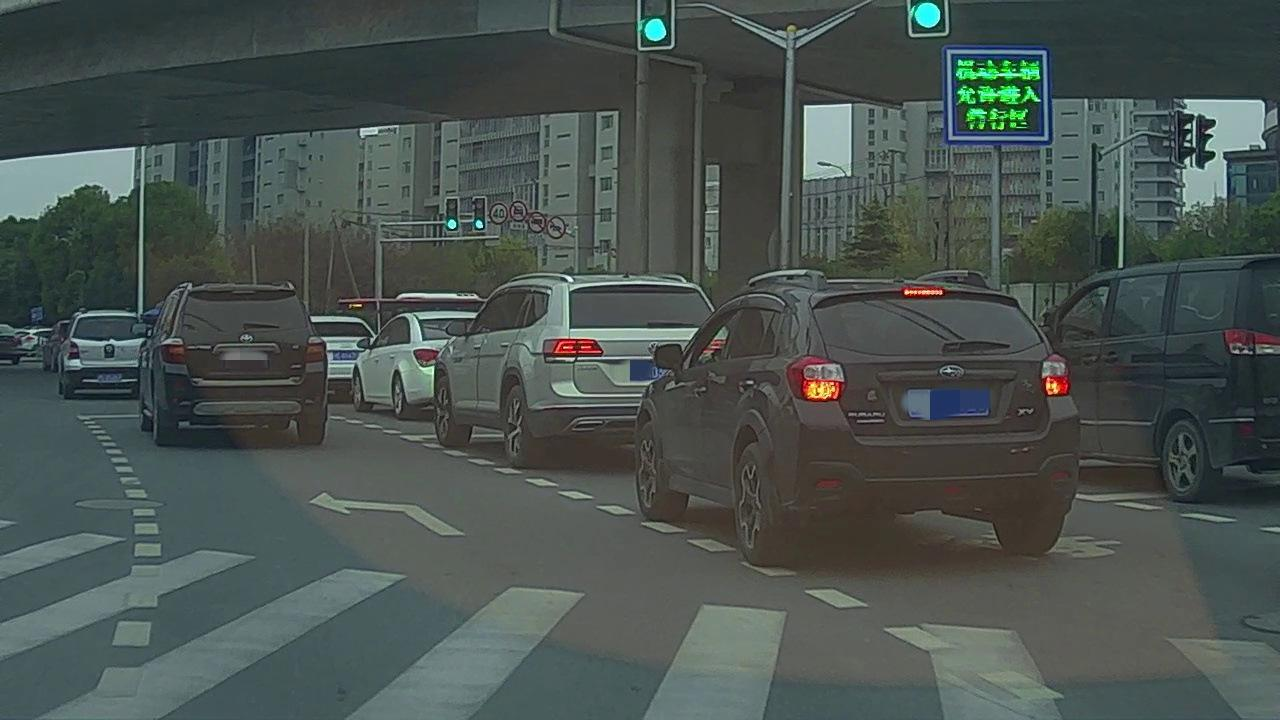traffic_light: (640, 2, 673, 49), (908, 3, 945, 33), (445, 196, 458, 231), (475, 199, 485, 231)
